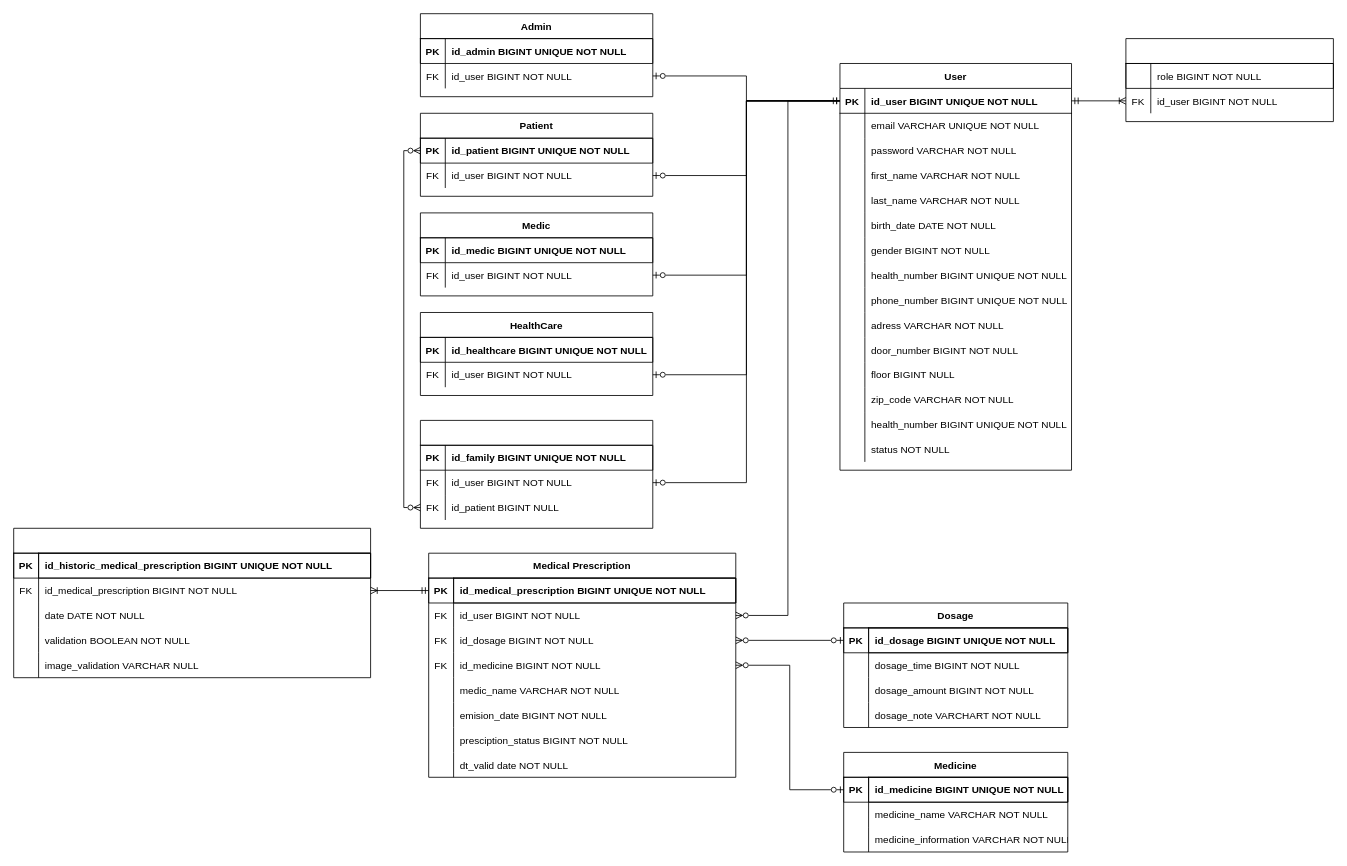
The diagram is 1347 pixels wide and 866 high, and some of its shapes have lost their labels. The shapes that lost their labels are listed below. From the top down, each one's box as (x1, y1, x2, y2) in pixels, then its label:
(1125, 38, 1333, 122): UserRole
(420, 420, 653, 528): Pacient_Family
(13, 527, 371, 678): Treatment History
